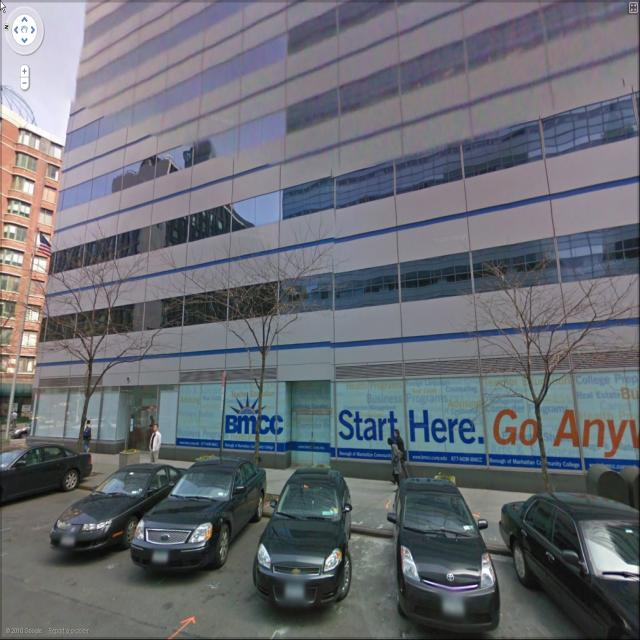b_1: (0, 99, 72, 412)
b_2: (36, 0, 638, 422)
